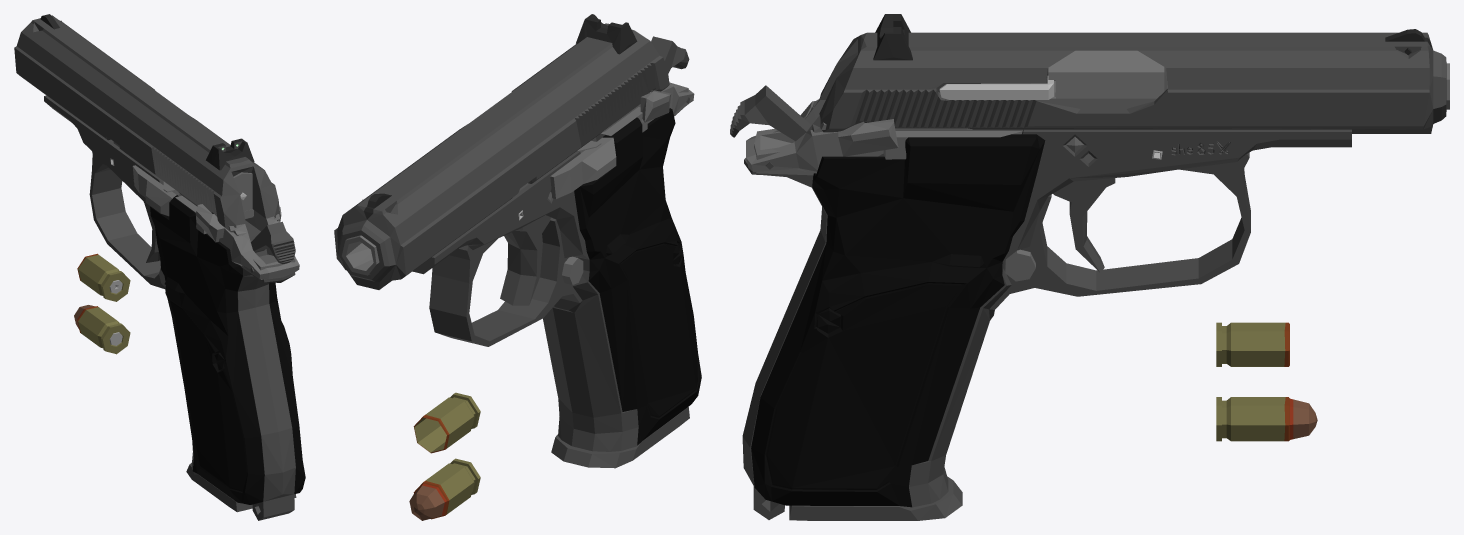
Rendered from pistol.glb.
3 renders of one model, left to right at view 1: azimuth 30°, elevation 25°; view 2: azimuth 150°, elevation 25°; view 3: azimuth 270°, elevation 25°, orthographic. The views are drawn at different scales.
Visible parts, largest first — view 1: frame_0, slide_4, safety_1, 9x18_9, 9x18_casing_8, hammer_3, slide_lock_6, magazine_7; view 2: frame_0, slide_4, trigger_2, 9x18_9, 9x18_casing_8, magazine_7, slide_lock_6, safety_1, hammer_3, mag_release_5; view 3: frame_0, slide_4, safety_1, 9x18_9, 9x18_casing_8, magazine_7, hammer_3, trigger_2.
Part boxes in pixels (x1,y1,x2,y2): frame_0: (44, 95, 305, 520); slide_4: (14, 14, 279, 232); safety_1: (196, 204, 299, 279); 9x18_9: (74, 305, 130, 354); 9x18_casing_8: (77, 253, 130, 301); hammer_3: (250, 221, 295, 263); slide_lock_6: (132, 165, 176, 216); magazine_7: (186, 462, 296, 512); frame_0: (342, 82, 701, 451); slide_4: (334, 14, 669, 289); trigger_2: (500, 215, 550, 305); 9x18_9: (409, 458, 480, 520); 9x18_casing_8: (413, 392, 480, 453); magazine_7: (551, 137, 689, 468); slide_lock_6: (550, 137, 616, 198); safety_1: (640, 85, 694, 122); hammer_3: (651, 36, 689, 73); mag_release_5: (562, 256, 583, 284); frame_0: (742, 50, 1449, 519); slide_4: (819, 14, 1446, 133); safety_1: (746, 101, 898, 173); 9x18_9: (1216, 397, 1317, 441); 9x18_casing_8: (1216, 322, 1289, 366); magazine_7: (789, 476, 962, 520); hammer_3: (730, 85, 811, 141); trigger_2: (1053, 178, 1115, 272).
Bounding box in the file's own units: 0.03 × 0.1305 × 0.1754.
